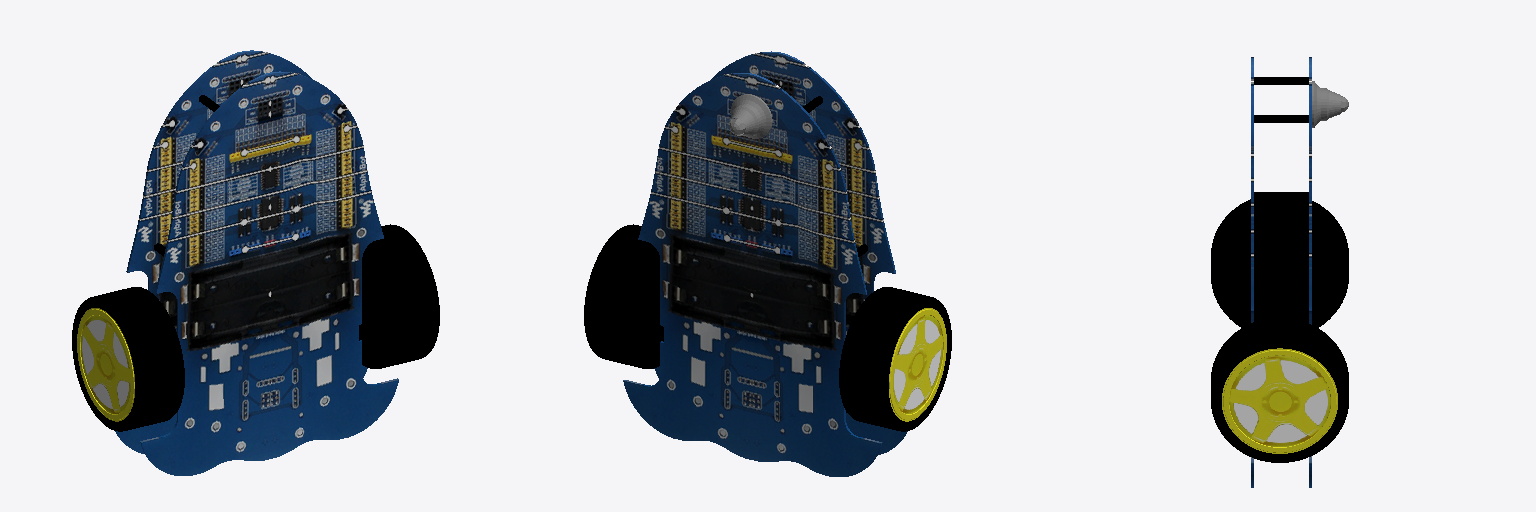
3 views of the same model, side by side, from view 1: azimuth 30°, elevation 25°; view 2: azimuth 150°, elevation 25°; view 3: azimuth 270°, elevation 25° (orthographic).
Size of the model in its own units: 0.1634 by 0.1997 by 0.0649.
1 materials, 1 textured.